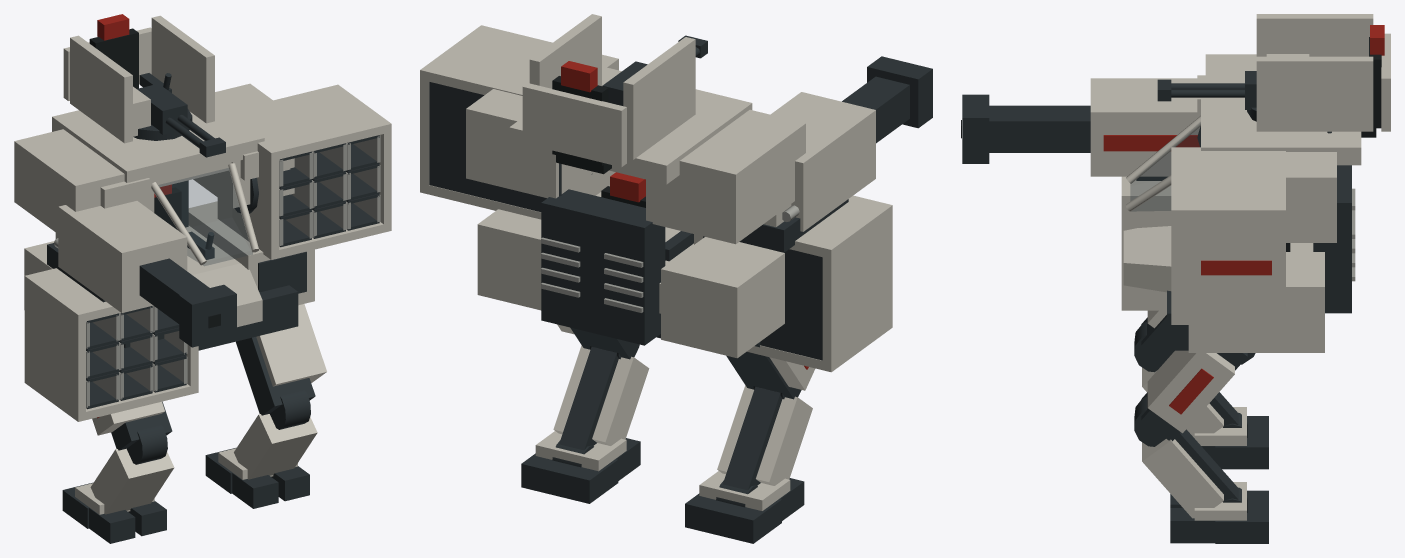
3 renders of one model, left to right at view 1: azimuth 30°, elevation 25°; view 2: azimuth 150°, elevation 25°; view 3: azimuth 270°, elevation 25°, orthographic. The views are drawn at different scales.
Parts seen in each view (by area): view 1: mech-torso-painted, mech-silo-right-painted, mech-silo-left-lower-painted, mech-cannon-recoil-painted, mech-mg-yaw-roof-painted, mech-torso-glazing, mech-hip-1-painted, mech-knee-1-painted, mech-knee-0-painted, mech-ankle-0-painted, mech-ankle-1-painted, mech-mg-pitch-roof-painted (+4 smaller); view 2: mech-torso-painted, mech-silo-left-lower-painted, mech-mg-yaw-roof-painted, mech-silo-right-painted, mech-cannon-recoil-painted, mech-knee-1-painted, mech-knee-0-painted, mech-ankle-0-painted, mech-ankle-1-painted, mech-hip-0-painted, mech-seat-gunner-painted, mech-seat-pilot-painted (+3 smaller); view 3: mech-torso-painted, mech-silo-right-painted, mech-cannon-recoil-painted, mech-mg-yaw-roof-painted, mech-hip-1-painted, mech-knee-1-painted, mech-ankle-1-painted, mech-silo-left-lower-painted, mech-ankle-0-painted, mech-knee-0-painted, mech-mg-pitch-roof-painted, mech-torso-glazing (+2 smaller).
Boxes of the visible parts, x1,y1,x2,y2 form: mech-torso-painted: (14, 83, 314, 350); mech-silo-right-painted: (217, 84, 391, 259); mech-silo-left-lower-painted: (24, 268, 198, 421); mech-cannon-recoil-painted: (55, 201, 236, 347); mech-mg-yaw-roof-painted: (63, 15, 214, 143); mech-torso-glazing: (155, 168, 252, 265); mech-hip-1-painted: (236, 304, 326, 415); mech-knee-1-painted: (234, 390, 317, 479); mech-knee-0-painted: (90, 425, 174, 514); mech-ankle-0-painted: (62, 482, 166, 543); mech-ankle-1-painted: (205, 447, 309, 508); mech-mg-pitch-roof-painted: (133, 83, 225, 157); mech-torso-painted: (466, 66, 805, 358); mech-silo-left-lower-painted: (694, 195, 892, 372); mech-mg-yaw-roof-painted: (522, 14, 695, 167); mech-silo-right-painted: (420, 25, 618, 219); mech-cannon-recoil-painted: (763, 56, 932, 231); mech-knee-1-painted: (553, 344, 649, 450); mech-knee-0-painted: (717, 385, 812, 490); mech-ankle-0-painted: (685, 471, 804, 543); mech-ankle-1-painted: (521, 431, 640, 503); mech-hip-0-painted: (726, 342, 815, 399); mech-seat-gunner-painted: (552, 61, 611, 174); mech-seat-pilot-painted: (601, 172, 693, 261); mech-torso-painted: (1123, 54, 1361, 352); mech-silo-right-painted: (1171, 147, 1285, 324); mech-cannon-recoil-painted: (961, 78, 1199, 176); mech-mg-yaw-roof-painted: (1247, 14, 1390, 131); mech-hip-1-painted: (1141, 350, 1255, 441); mech-knee-1-painted: (1134, 397, 1238, 518); mech-ankle-1-painted: (1170, 482, 1268, 543); mech-silo-left-lower-painted: (1121, 176, 1171, 310); mech-ankle-0-painted: (1194, 407, 1268, 469); mech-knee-0-painted: (1134, 322, 1238, 437); mech-mg-pitch-roof-painted: (1157, 54, 1309, 109); mech-torso-glazing: (1130, 122, 1200, 211).
Size of the model in its own units: 25.14 by 30.53 by 25.88.
